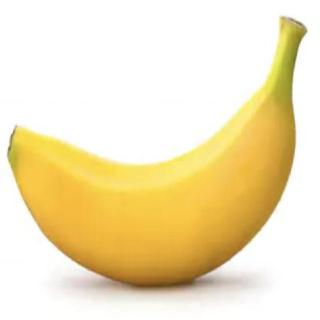banana: (7, 14, 309, 292)
